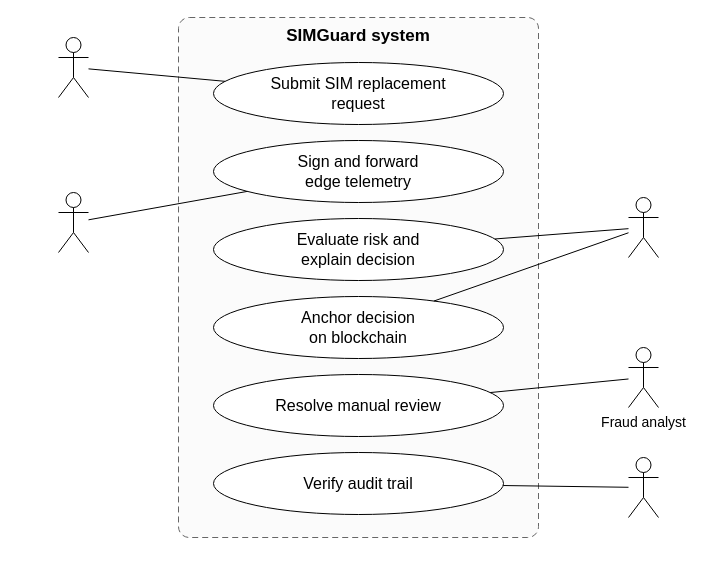
Image size: 703x576. Some labels were removed from this diagram. Here are the shapes that lost their labels. From the top down, the centre of each, then its label:
pixel 73 67: Retail agent / call-centre staff
pixel 73 222: Edge gateway (SIM800L + MCU)
pixel 643 227: Network administrator
pixel 643 487: Auditor / regulator
